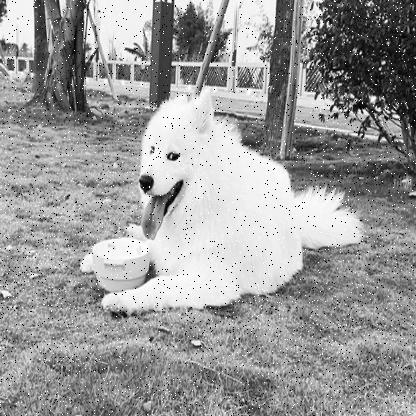dog: (71, 84, 365, 319)
